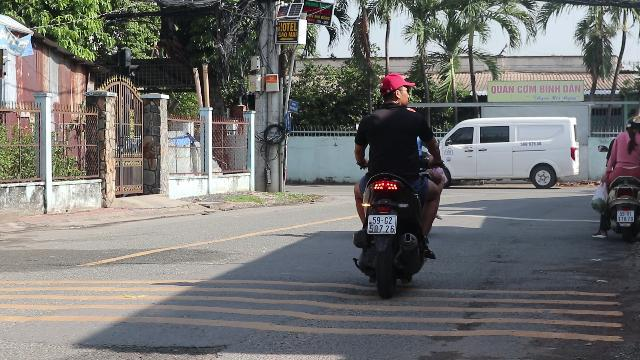helmet: (626, 111, 640, 133)
licenseplate: (367, 215, 395, 233), (617, 210, 633, 221)
motorcyclist: (347, 70, 447, 292), (590, 110, 640, 240)
nohelmet: (378, 74, 414, 108)
